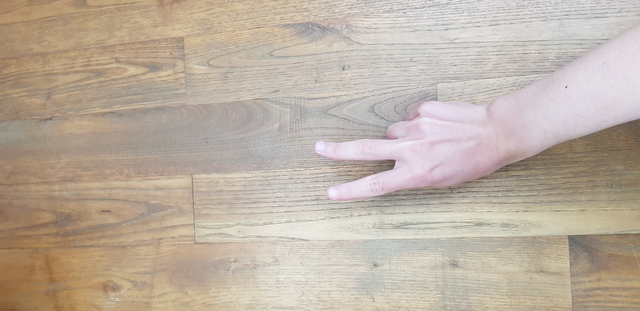Scissors: (294, 85, 521, 218)
